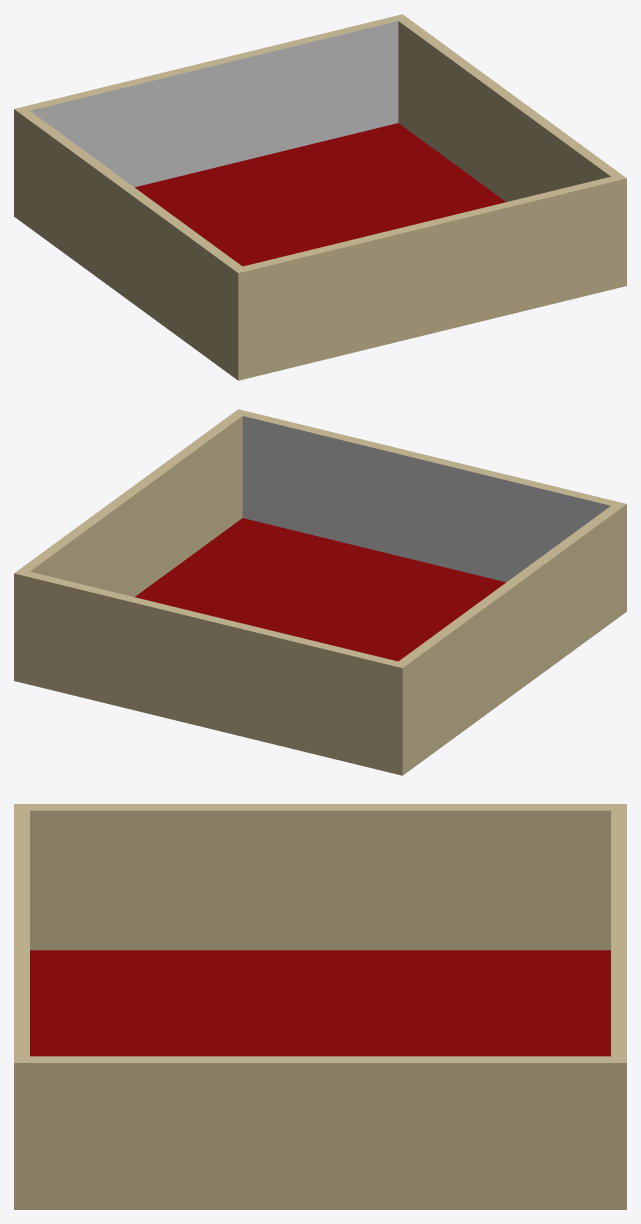
File: room1.gltf
3 renders of one model, top to bottom at view 1: azimuth 30°, elevation 25°; view 2: azimuth 150°, elevation 25°; view 3: azimuth 270°, elevation 25°, orthographic. The views are drawn at different scales.
Parts seen in each view (by area): view 1: Cube; view 2: Cube; view 3: Cube.
Part boxes in pixels (<box>): Cube: <box>14,14,626,380</box>; Cube: <box>14,409,626,775</box>; Cube: <box>14,804,626,1209</box>.
Size of the model in its own units: 17.8 by 4.71 by 17.8.
